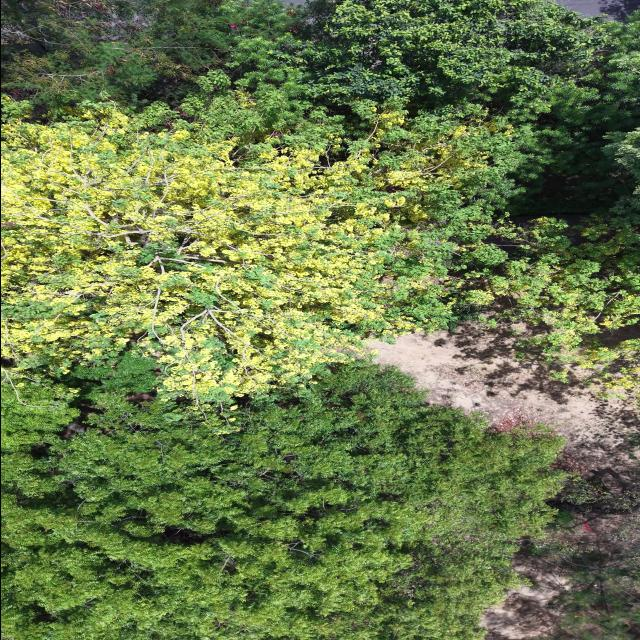DRY_AREA: (372, 323, 639, 495), (372, 323, 639, 490), (372, 323, 639, 471), (372, 323, 639, 465), (481, 515, 630, 639), (482, 553, 569, 639), (557, 0, 639, 20), (558, 0, 639, 20)
VEGETATION_TREE: (1, 0, 639, 639), (3, 0, 639, 393), (3, 87, 639, 399), (1, 363, 563, 639), (511, 459, 639, 639)
